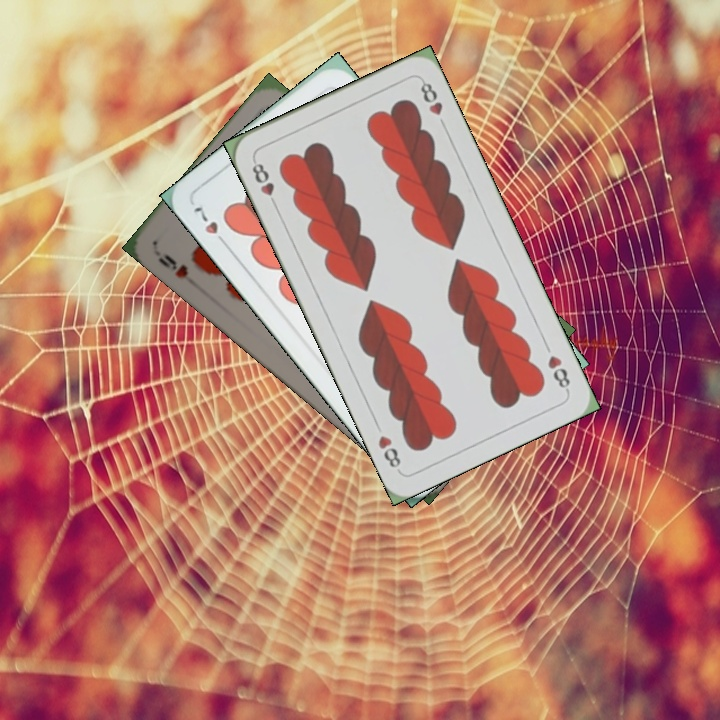H7: (189, 202, 231, 250)
H8: (248, 155, 281, 211), (543, 351, 573, 395)
H9: (154, 250, 191, 281)
